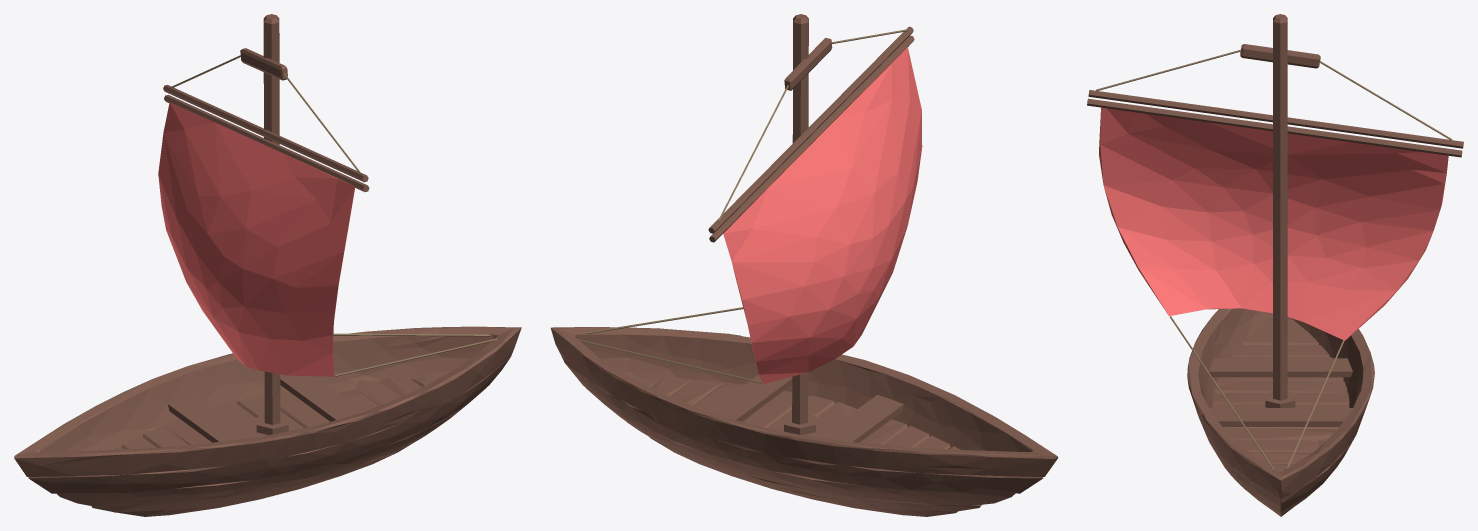
Rendered from boat_2.fbx.
3 renders of one model, left to right at view 1: azimuth 30°, elevation 25°; view 2: azimuth 150°, elevation 25°; view 3: azimuth 270°, elevation 25°, orthographic. The views are drawn at different scales.
Parts seen in each view (by area): view 1: boat_02; view 2: boat_02; view 3: boat_02.
Part boxes in pixels (box(x1,y1,x2,y2)): boat_02: box(14, 14, 521, 516); boat_02: box(550, 14, 1058, 516); boat_02: box(1087, 14, 1463, 516).
Bounding box in the file's own units: 1320 × 1192 × 903.
